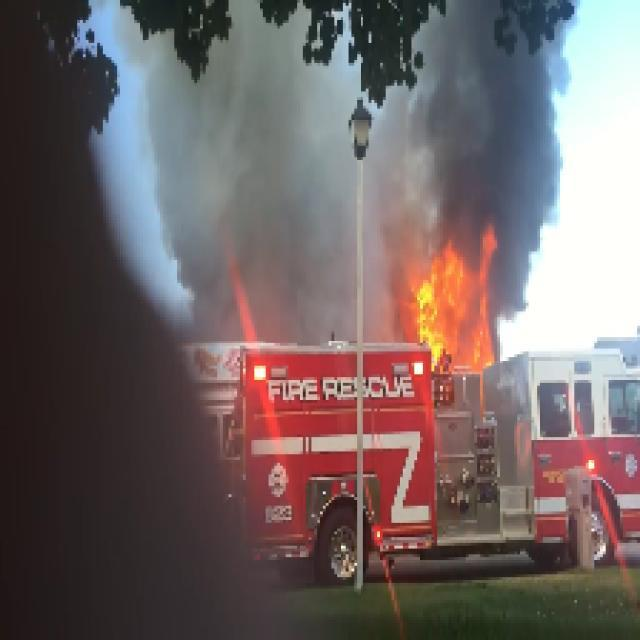Fire: (402, 234, 498, 346)
Smoke: (128, 28, 348, 240), (411, 34, 586, 217)
